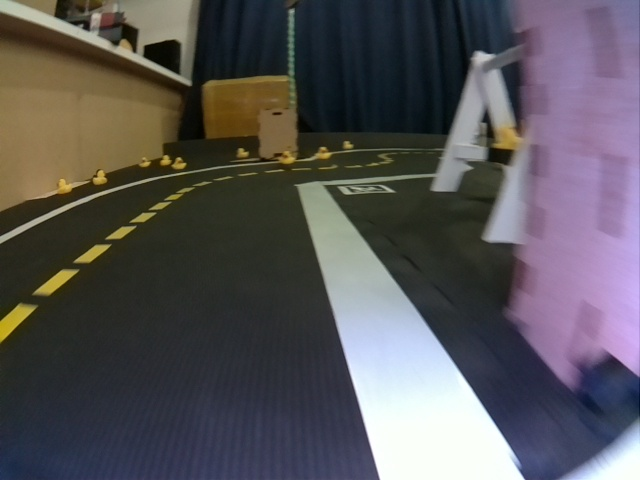Duckie: (93, 171, 106, 184), (280, 152, 294, 164), (57, 180, 70, 192), (172, 158, 186, 169), (317, 147, 330, 158), (161, 155, 171, 165), (238, 148, 248, 158), (140, 157, 150, 166), (343, 141, 352, 149)
QR code: (339, 184, 395, 193)
